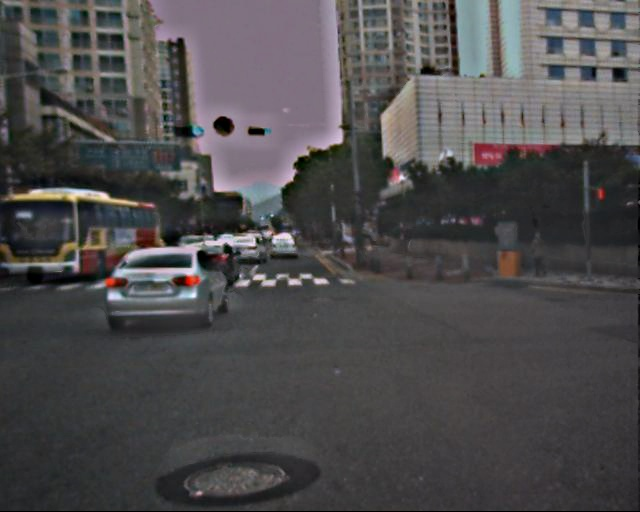person: (528, 230, 549, 281)
